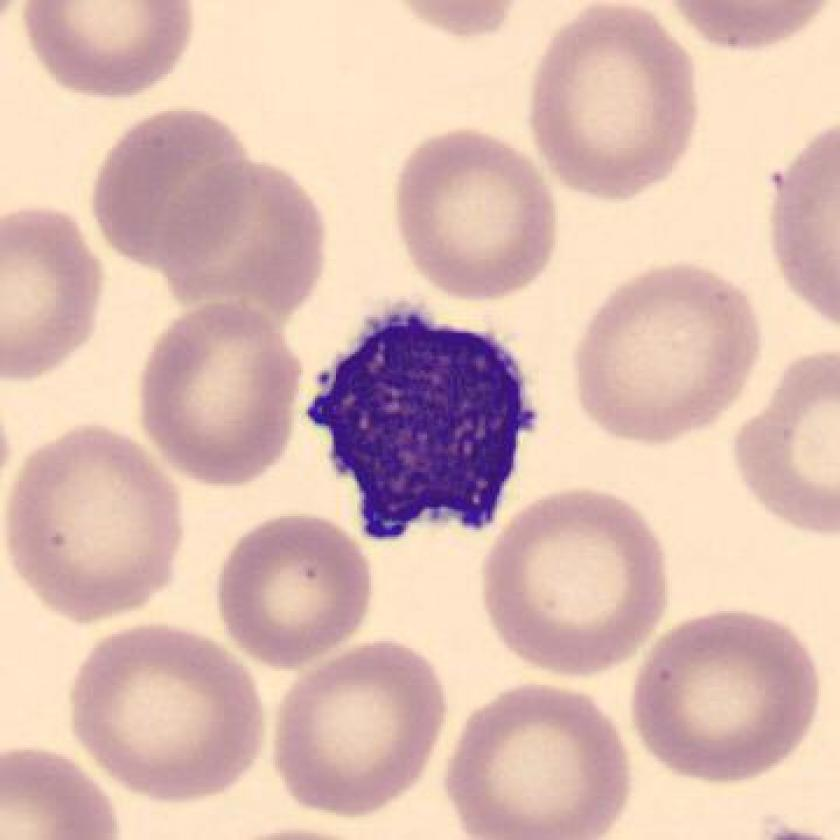lymphocyte: (297, 293, 538, 552)
